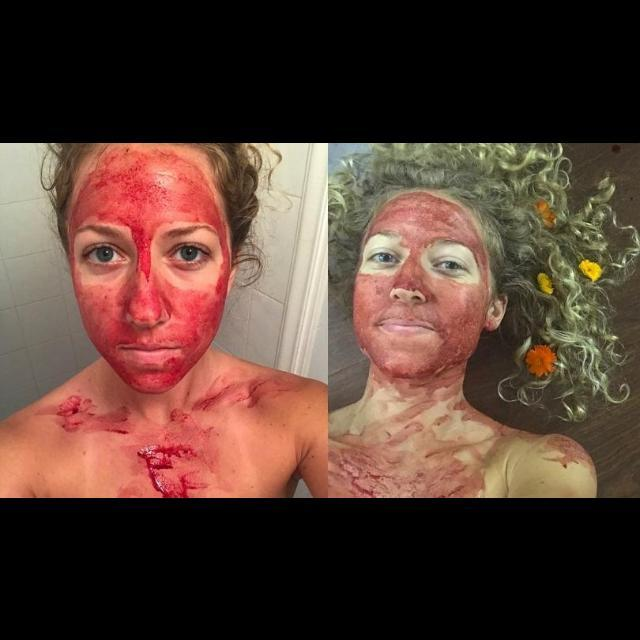blood: (26, 143, 320, 498), (328, 190, 598, 496)
